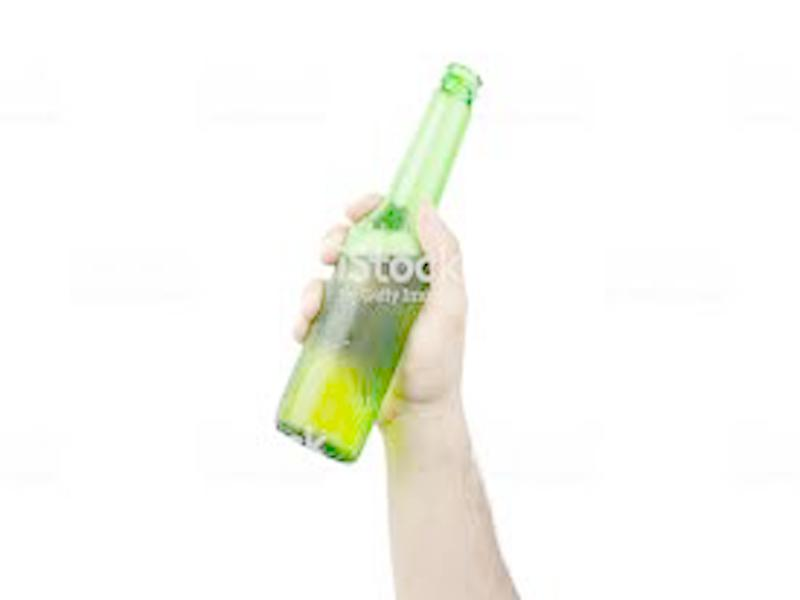Beer: (273, 59, 483, 459)
